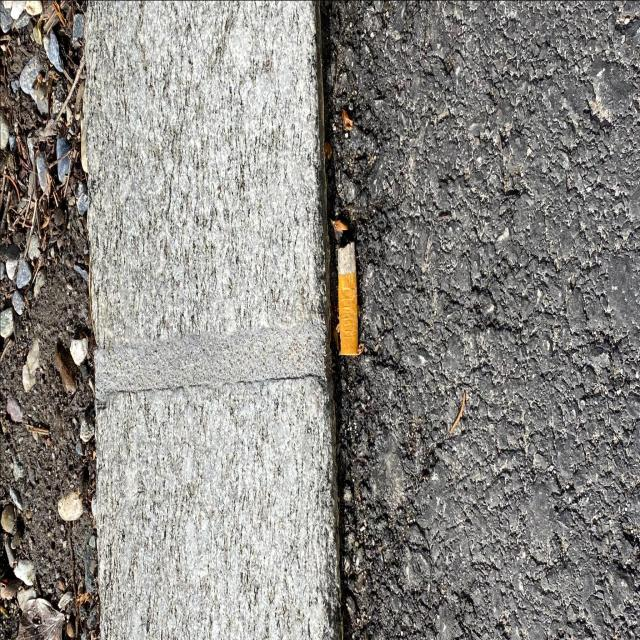other waste: (338, 240, 358, 357)
